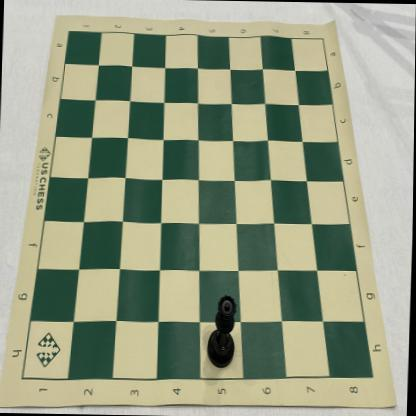black-queen: (207, 294, 238, 368)
